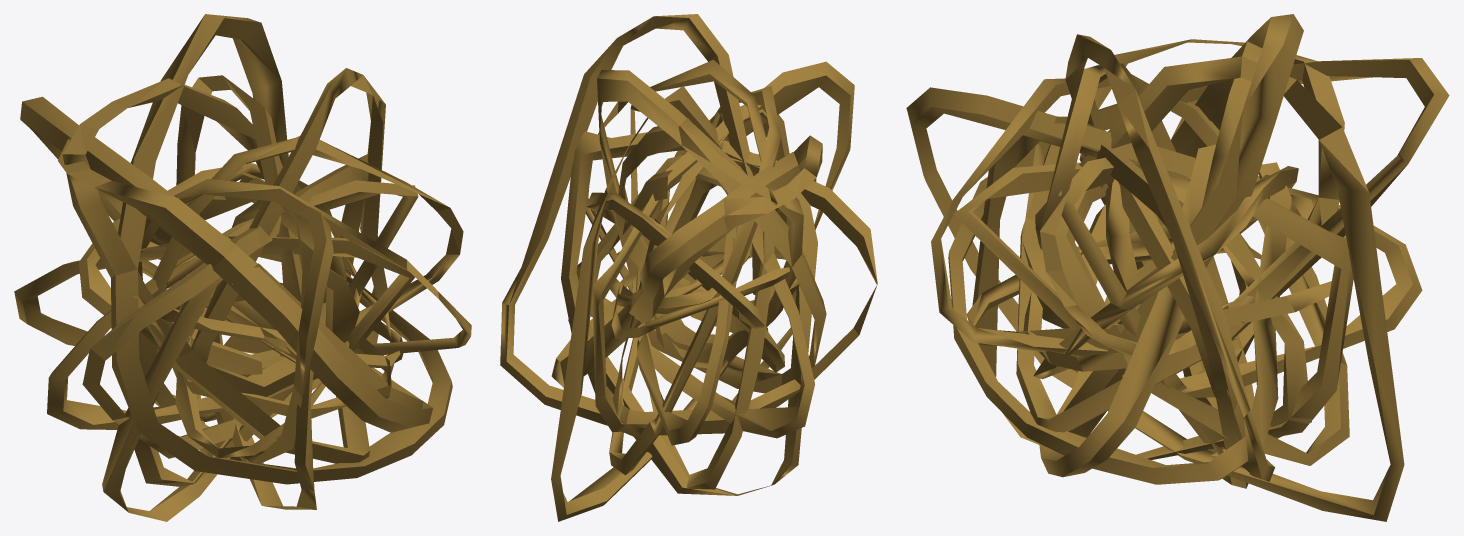
File: bigDunk.glb
The picture shows the model from 3 angles, left to right: view 1: azimuth 30°, elevation 25°; view 2: azimuth 150°, elevation 25°; view 3: azimuth 270°, elevation 25°; orthographic projection. The views are drawn at different scales.
Parts seen in each view (by area): view 1: line04; view 2: line04; view 3: line04.
Part boxes in pixels (box(x1,y1,x2,y2)): line04: box(14, 14, 471, 521); line04: box(500, 14, 877, 521); line04: box(906, 14, 1449, 521).
Size of the model in its own units: 0.1569 by 0.1958 by 0.1939.
